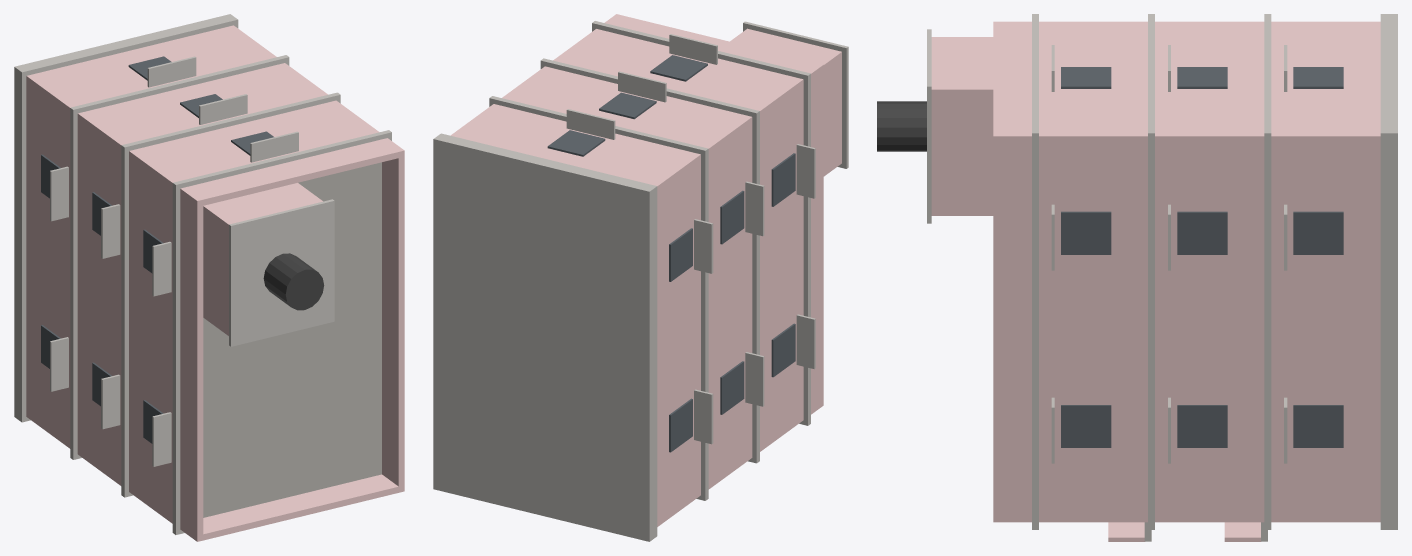
Rendered from rowhouse_3f_pink_shop.glb.
3 views of the same model, side by side, from view 1: azimuth 30°, elevation 25°; view 2: azimuth 150°, elevation 25°; view 3: azimuth 270°, elevation 25° (orthographic). The views are drawn at different scales.
Visible parts, largest first — view 1: pink, concrete, roof, glass, tank; view 2: concrete, pink, glass; view 3: pink, concrete, glass, tank.
Part boxes in pixels (x1=…): pink: x1=26, y1=25, x2=404, y2=541; concrete: x1=14, y1=14, x2=391, y2=534; roof: x1=203, y1=162, x2=381, y2=517; glass: x1=41, y1=56, x2=273, y2=443; tank: x1=263, y1=253, x2=324, y2=310; concrete: x1=433, y1=21, x2=848, y2=541; pink: x1=451, y1=14, x2=841, y2=526; glass: x1=547, y1=55, x2=795, y2=452; pink: x1=931, y1=21, x2=1380, y2=541; concrete: x1=927, y1=14, x2=1397, y2=541; glass: x1=1061, y1=67, x2=1343, y2=447; tank: x1=877, y1=101, x2=926, y2=151.
Size of the model in its own units: 8.2 by 12.81 by 13.45.
